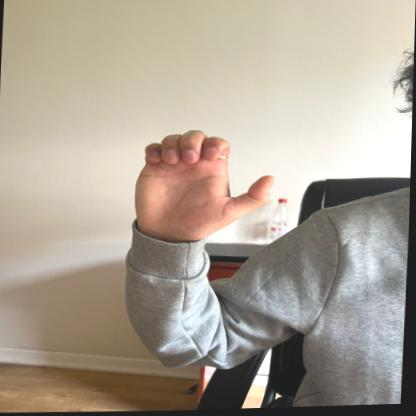E: (131, 124, 278, 240)
